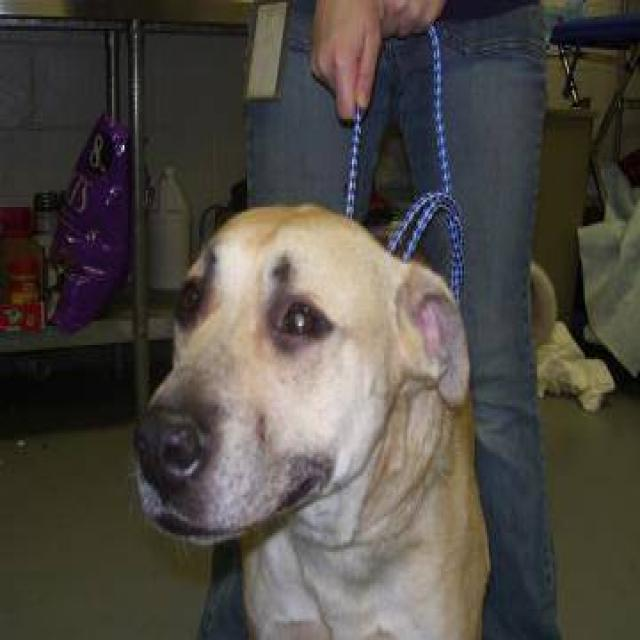dog: (128, 200, 556, 638)
